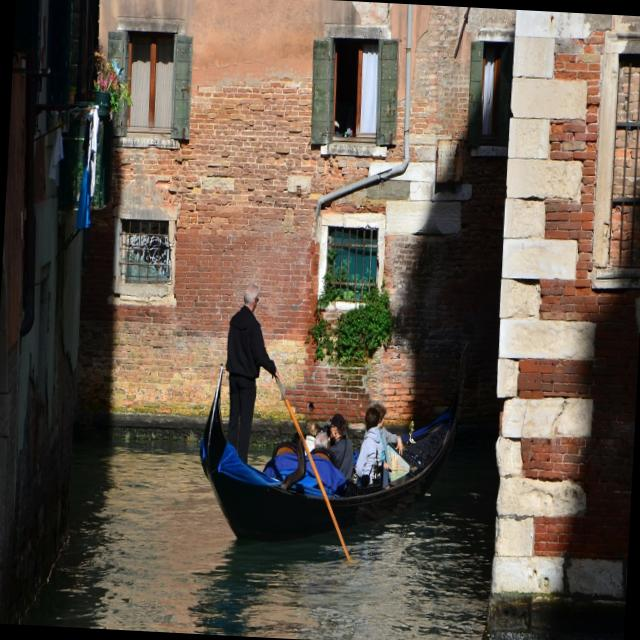boat: (186, 336, 477, 582)
